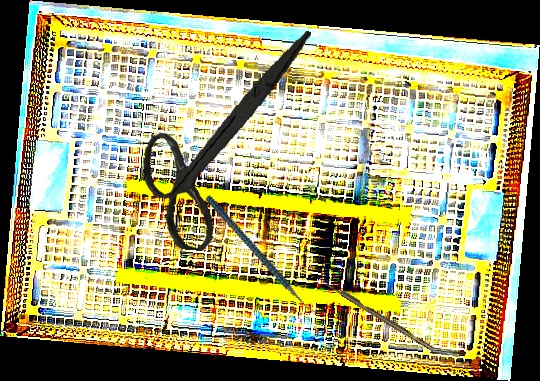Chopper: (204, 171, 326, 340)
Hook Surgical: (324, 280, 436, 353)
Iris Scissors: (136, 18, 312, 259)
